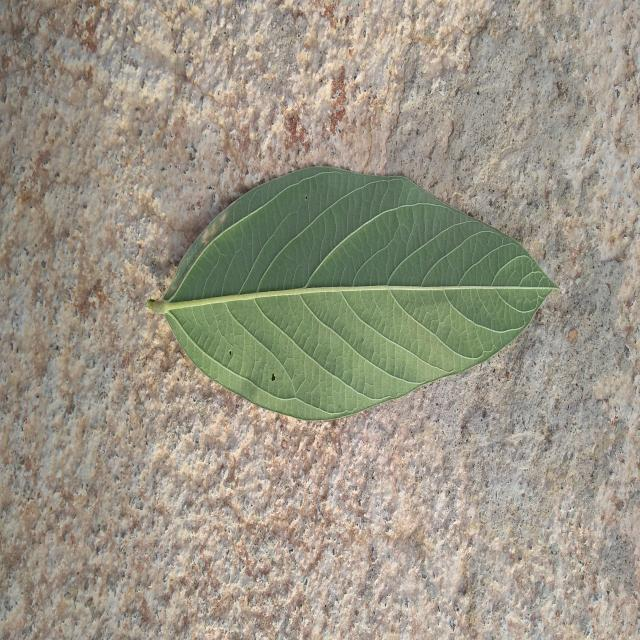pea: (149, 167, 555, 420)
